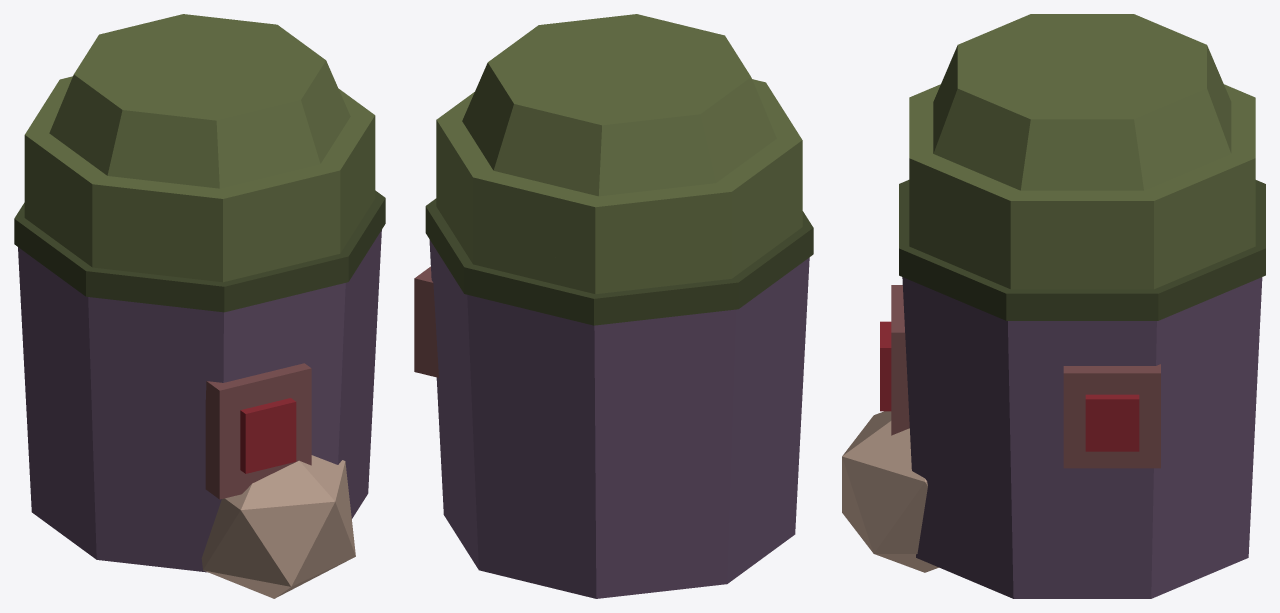
The model's file is inf_brute_upper_leg.fbx.
3 views of the same model, side by side, from view 1: azimuth 30°, elevation 25°; view 2: azimuth 150°, elevation 25°; view 3: azimuth 270°, elevation 25° (orthographic). The views are drawn at different scales.
Visible parts, largest first — view 1: inf_brute_upper_leg; view 2: inf_brute_upper_leg; view 3: inf_brute_upper_leg.
Boxes of the visible parts, x1,y1,x2,y2 form: inf_brute_upper_leg: (14, 14, 385, 598); inf_brute_upper_leg: (414, 14, 813, 598); inf_brute_upper_leg: (842, 14, 1265, 598).
Bounding box in the file's own units: 104 × 149 × 113.
